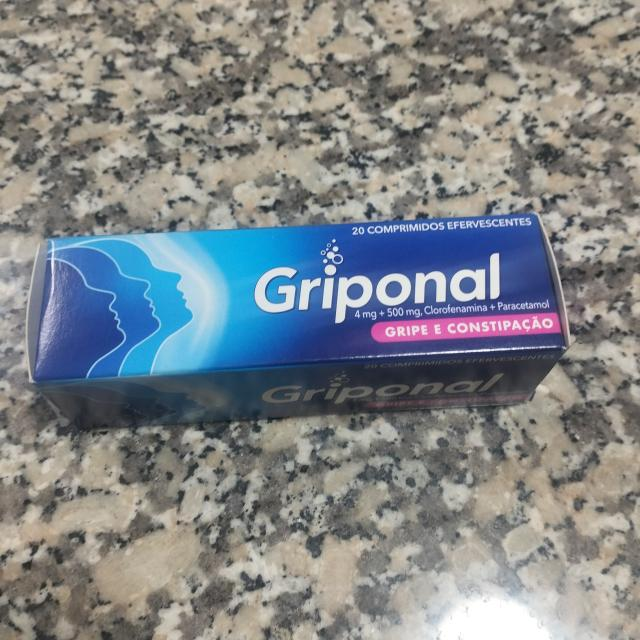box: (28, 215, 569, 431)
